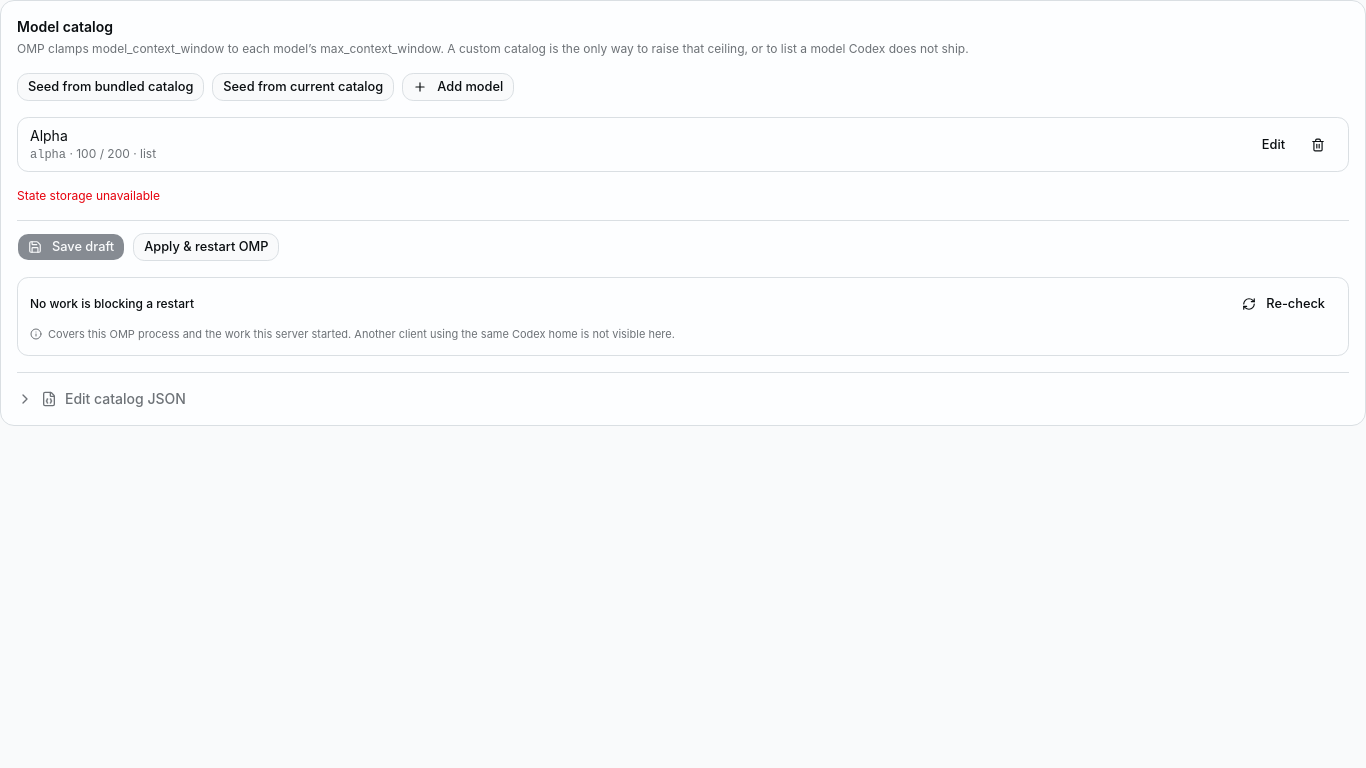
Test: shows a failed state read without claiming there is no configured override
Expected: the text "State storage unavailable" is shown, top-left (17, 188), bottom-right (160, 203)
Click the button "Edit catalog JSON": coordinates (101, 398) top-left (17, 388), bottom-right (186, 408)
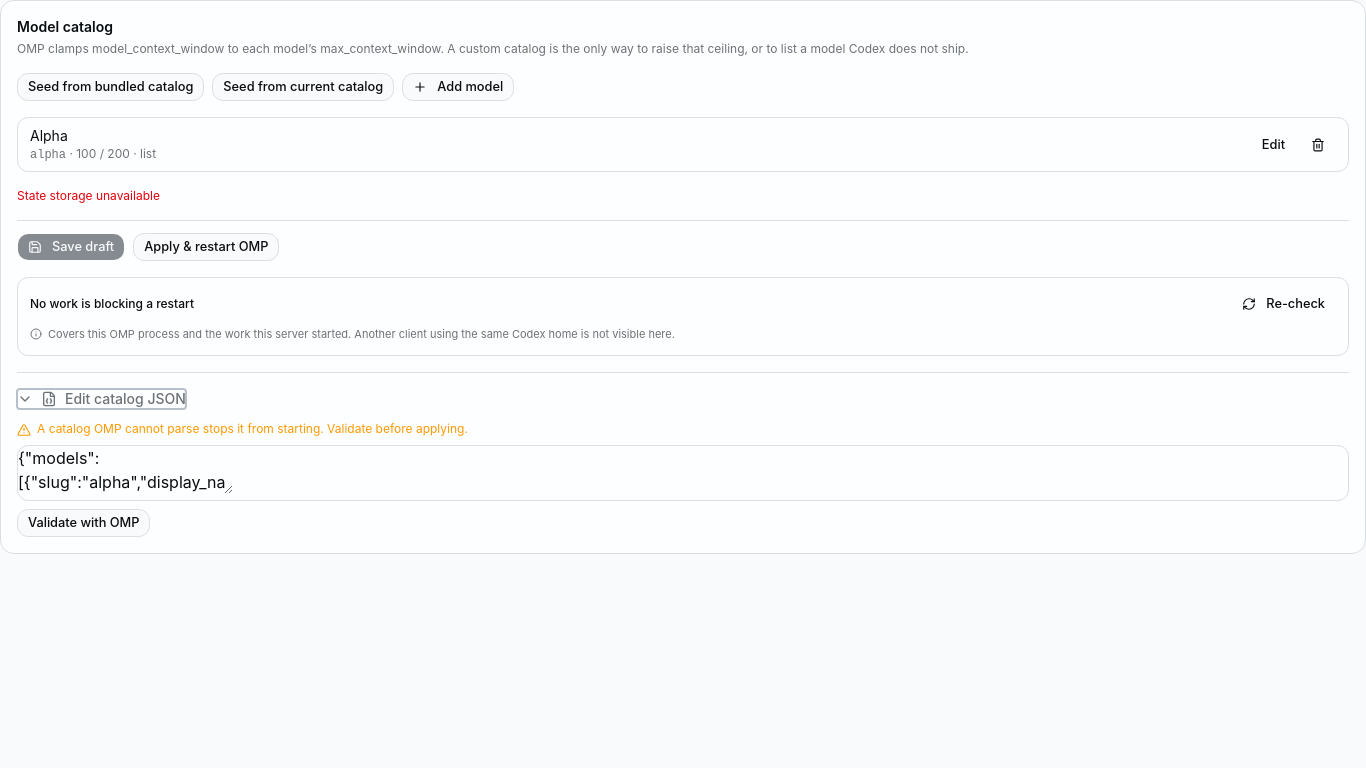
Now the text box named "Raw JSON" is shown, box top-left (18, 446), bottom-right (233, 494)
